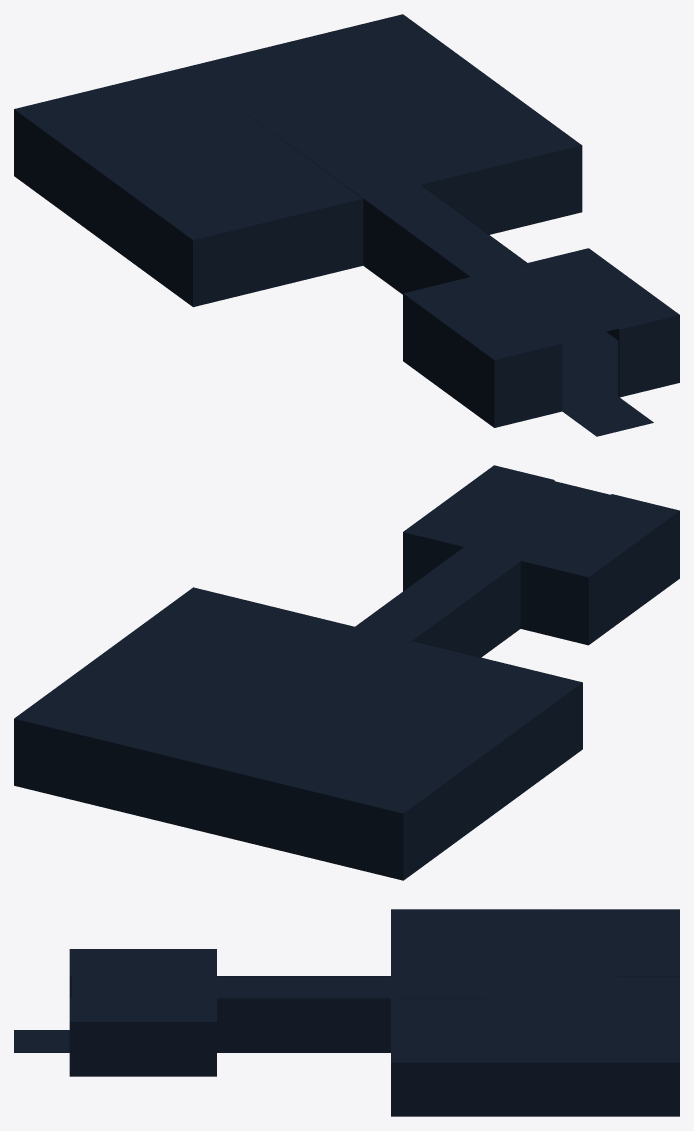
Rendered from Mapa 3.fbx.
3 renders of one model, top to bottom at view 1: azimuth 30°, elevation 25°; view 2: azimuth 150°, elevation 25°; view 3: azimuth 270°, elevation 25°, orthographic. The views are drawn at different scales.
Parts seen in each view (by area): view 1: Cube; view 2: Cube; view 3: Cube.
Boxes of the visible parts, box(x1,y1,x2,y2) form: Cube: box(14, 14, 679, 436); Cube: box(14, 465, 679, 880); Cube: box(14, 909, 679, 1116).
Bounding box in the file's own units: 59201 × 9878 × 108805.
